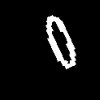chain: (46, 15, 75, 68)
